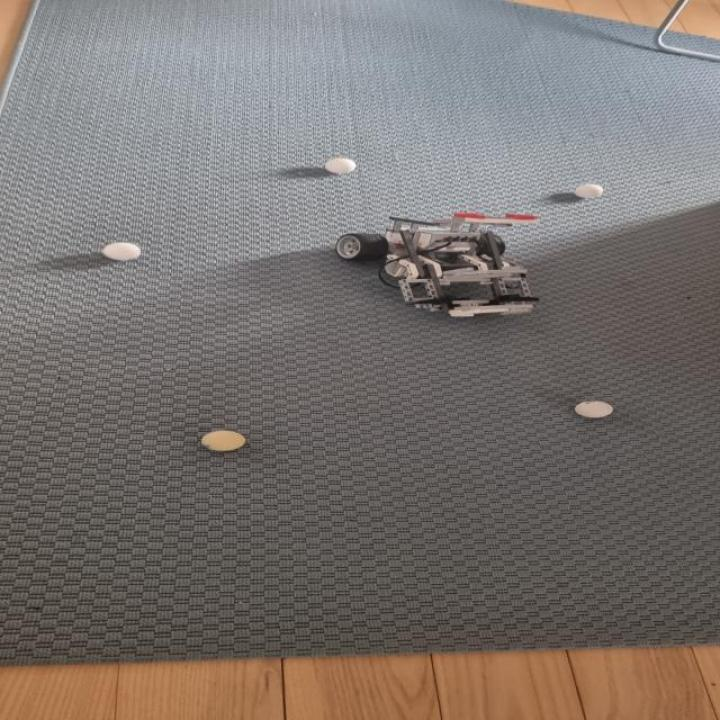robot: (334, 212, 542, 318)
white: (200, 431, 246, 450), (574, 400, 614, 418), (103, 242, 141, 260), (324, 158, 357, 173), (576, 184, 602, 197)
